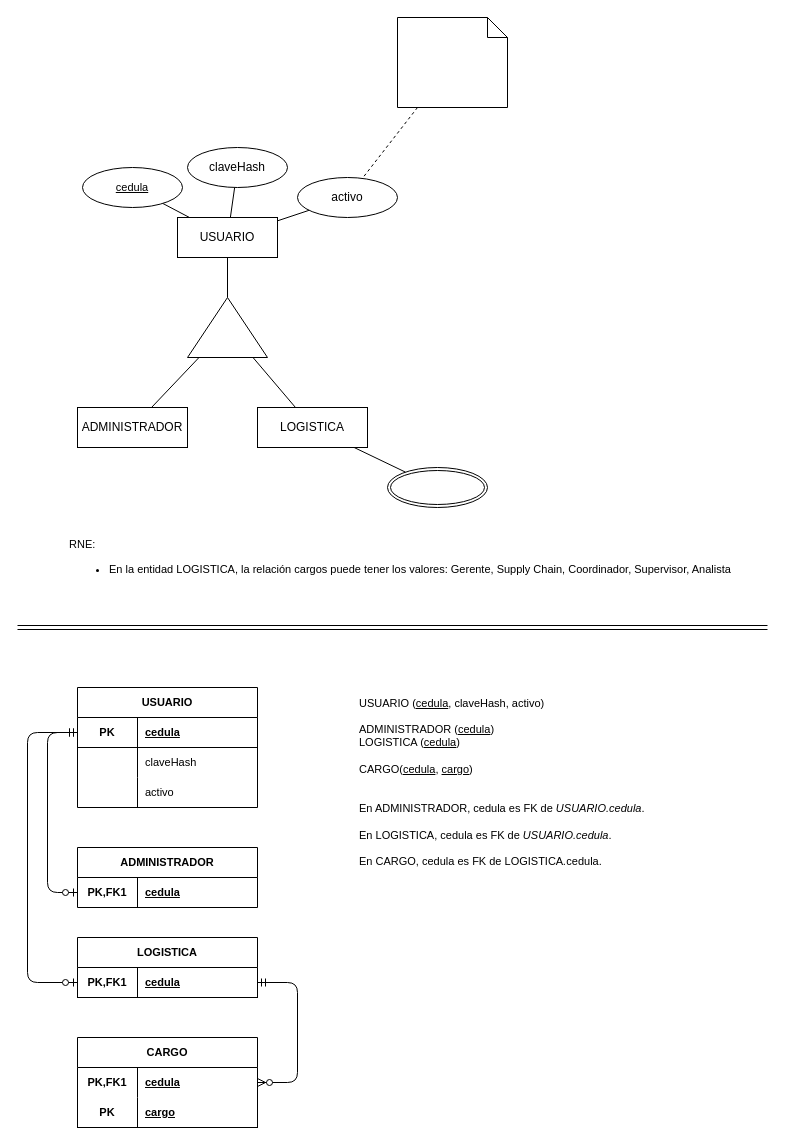
The diagram is 785 pixels wide and 1145 high, and some of its shapes have lost their labels. The box of each missing label's shape, as (x1, y1, x2, y2) in pixels:
cargos: (386, 466, 488, 508)
Sirve para verificar si ya existe una sesión activa del usuario.: (396, 16, 508, 108)
